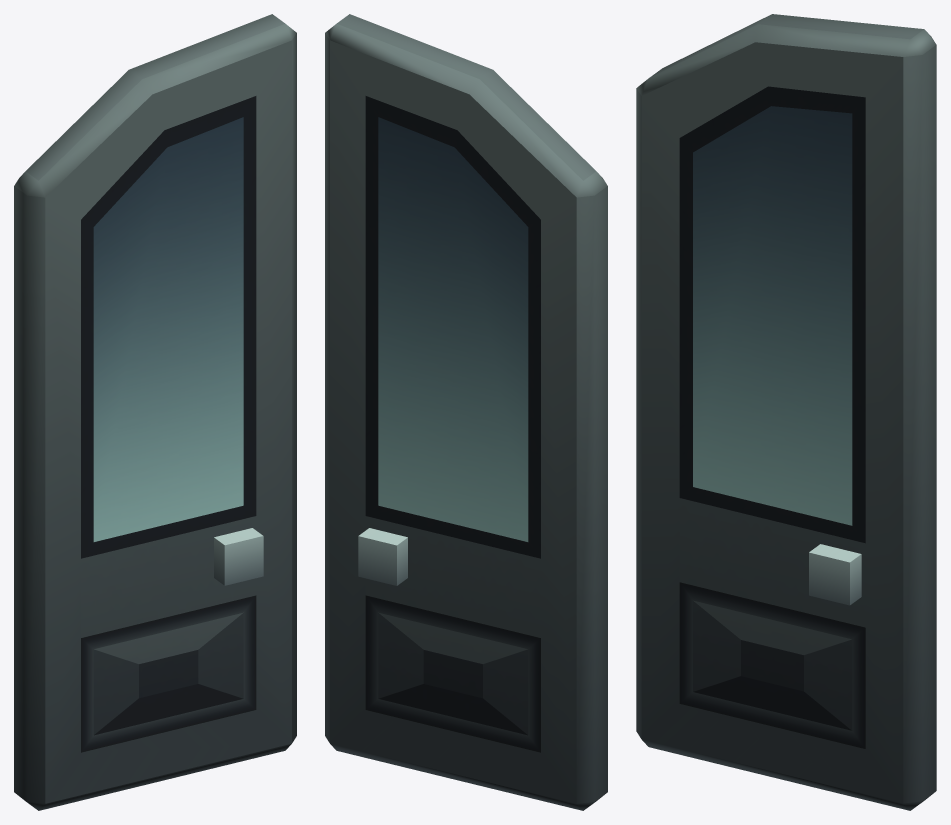
File: door_black_arch_left_police_station.fbx
3 views of the same model, side by side, from view 1: azimuth 30°, elevation 25°; view 2: azimuth 150°, elevation 25°; view 3: azimuth 330°, elevation 25° (orthographic). The views are drawn at different scales.
Parts seen in each view (by area): view 1: door_black_arch_left_police_station; view 2: door_black_arch_left_police_station; view 3: door_black_arch_left_police_station.
Boxes of the visible parts, x1,y1,x2,y2 form: door_black_arch_left_police_station: [14, 14, 296, 810]; door_black_arch_left_police_station: [325, 14, 607, 810]; door_black_arch_left_police_station: [636, 14, 936, 810].
Bounding box in the file's own units: 104 × 269 × 32.5.
